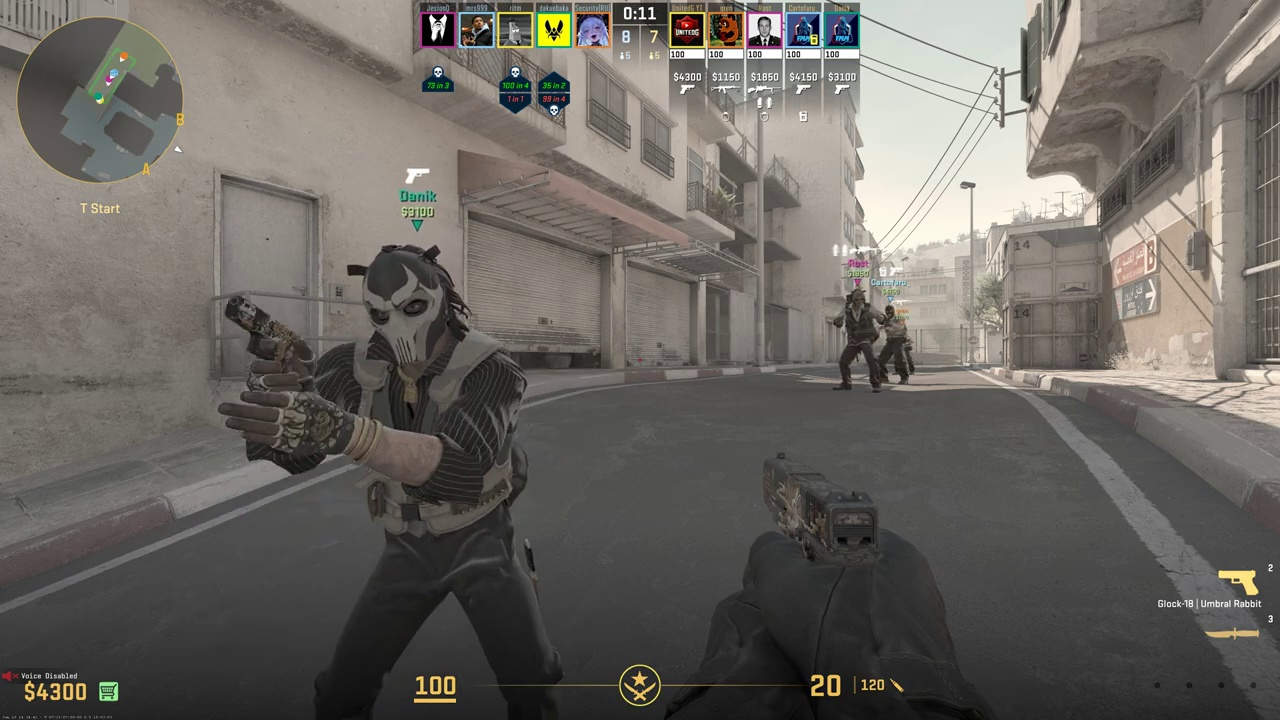Terrorist: (302, 246, 543, 720), (834, 289, 881, 393), (881, 305, 909, 385)
